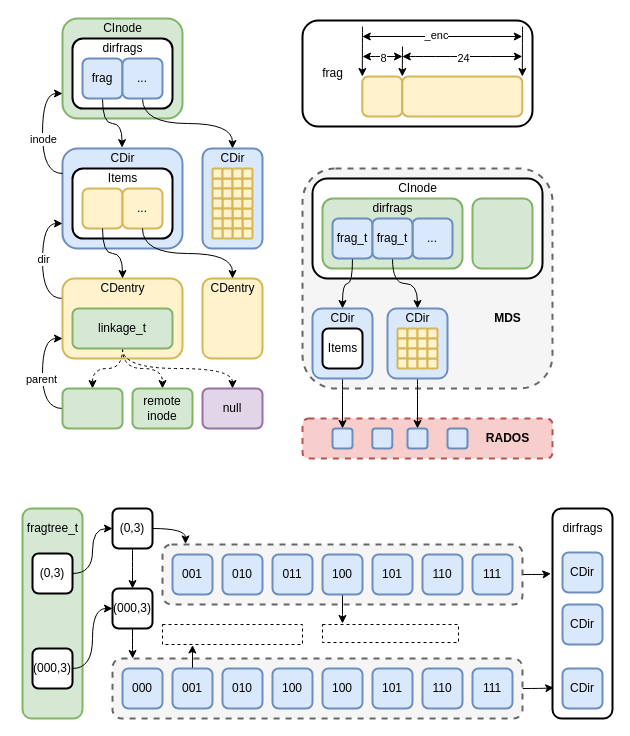
Some shapes in this 630 by 736 pixel diagram are drawn without their labels. Here are the shapes that lost their labels. From the top down, the centre of each, then its label:
At point (382, 96): "bits".
At point (462, 96): "value".
At point (102, 208): "dentry".
At point (502, 233): "dirfragtree".
At point (92, 408): "local inode".
At point (232, 634): "_enc=0x06 00 01 00 00".
At point (390, 633): "_enc=0x03 08 00 00 00".
